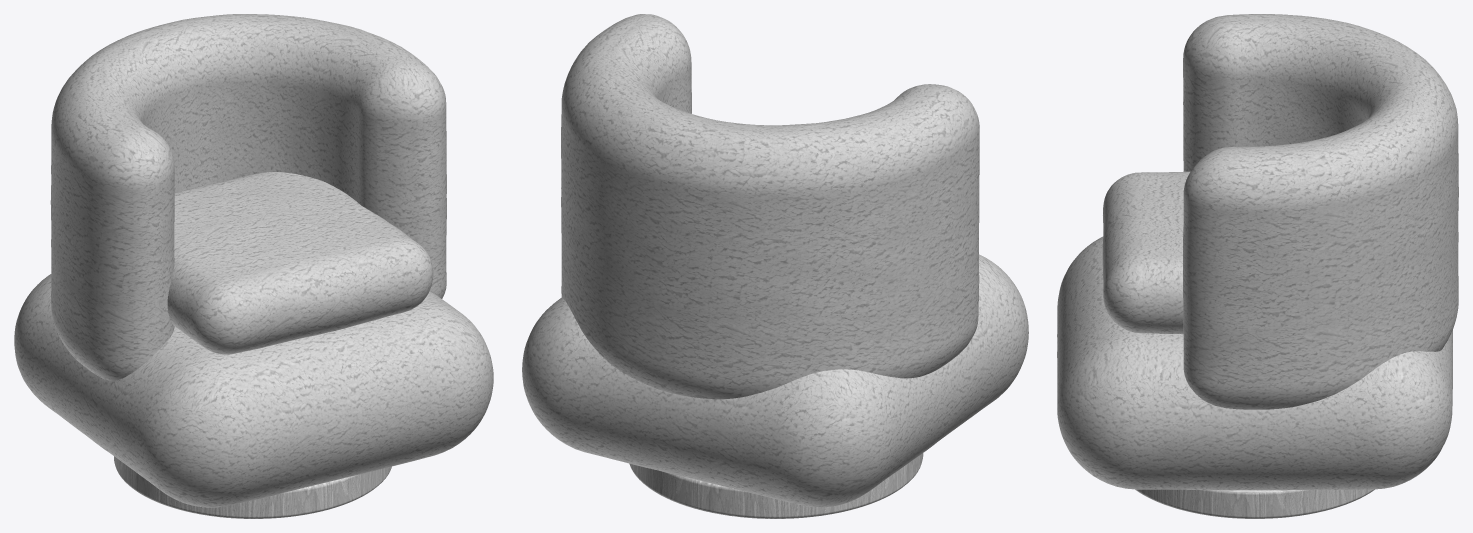
File: armchair.gltf
3 views of the same model, side by side, from view 1: azimuth 30°, elevation 25°; view 2: azimuth 150°, elevation 25°; view 3: azimuth 270°, elevation 25° (orthographic). The views are drawn at different scales.
Parts seen in each view (by area): view 1: armchair; view 2: armchair; view 3: armchair.
Part boxes in pixels (box(x1,y1,x2,y2)): armchair: box(14, 14, 493, 518); armchair: box(522, 14, 1028, 518); armchair: box(1057, 14, 1458, 518).
Bounding box in the file's own units: 0.7617 × 0.7806 × 0.75.
Materials: 2 (2 with a texture image).
